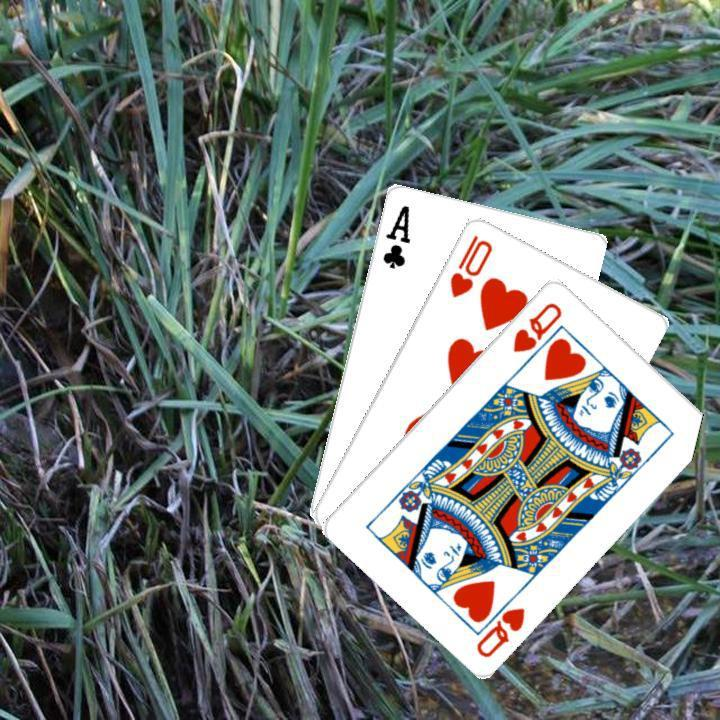10: (445, 230, 495, 300)
A: (377, 200, 412, 270)
Q: (470, 586, 528, 659), (508, 297, 564, 354)
